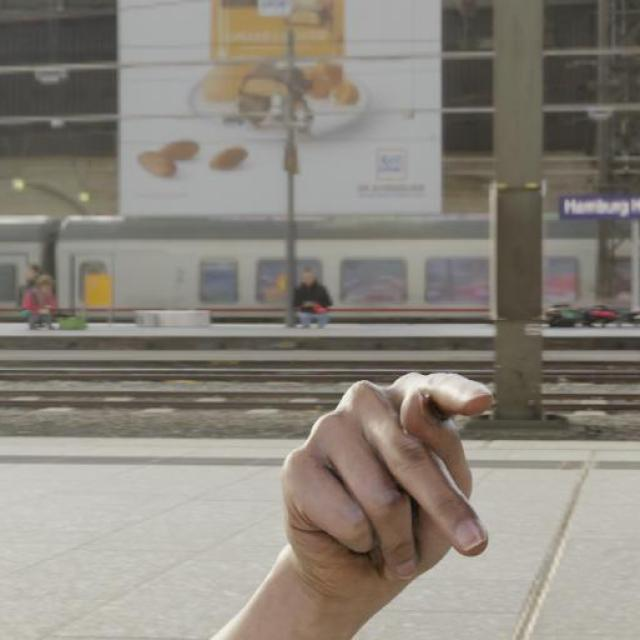P: (279, 368, 501, 610)
